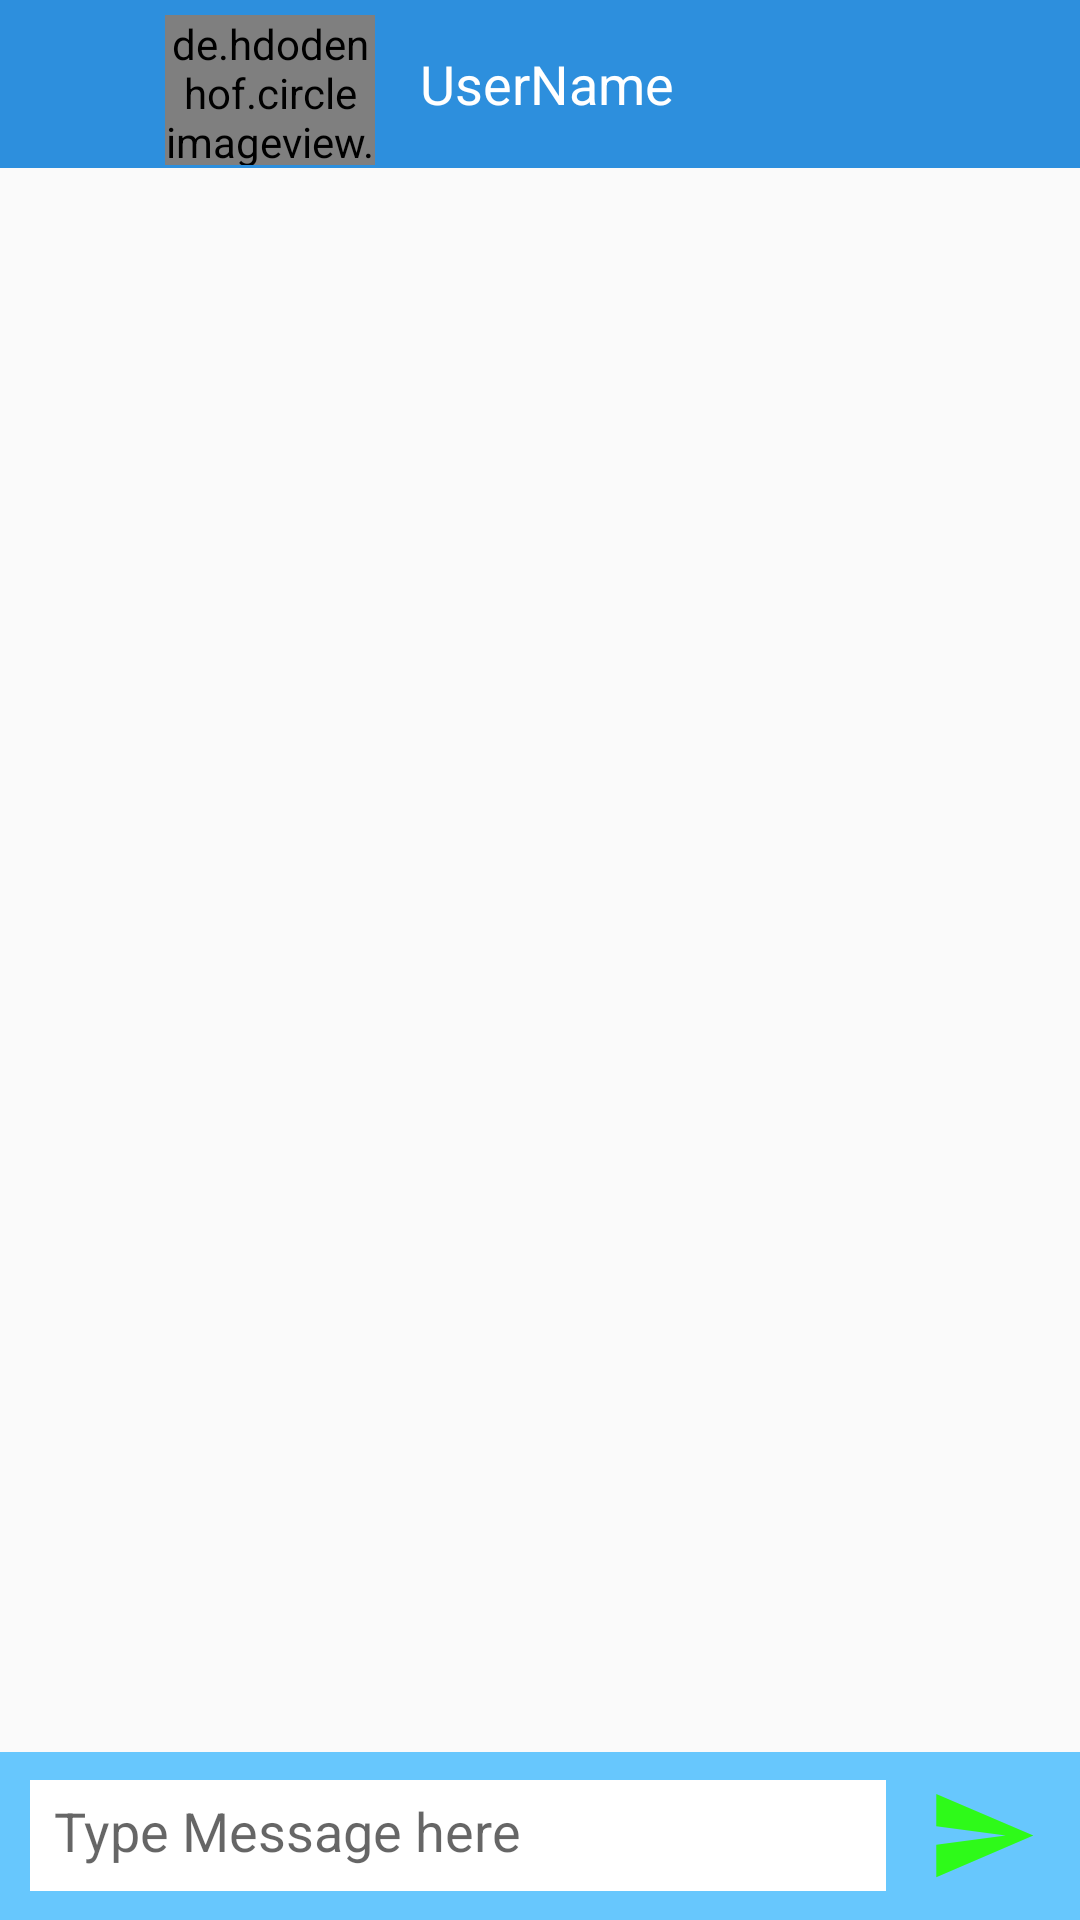

Where icons sit on this 1080px×1920px app screen, as (x1, y1, x2, y2):
send: (936, 1794, 1033, 1877)
